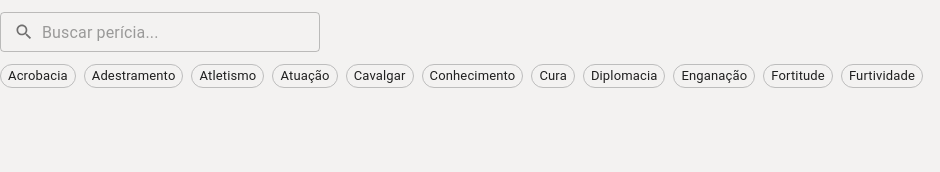
it: SkillChipSelector › filtra perícias ignorando acentos e caixa
The image size is (940, 172).
Type "atuacao" into the field with placeholder "Buscar perícia..." at [181, 32], box x1=42 y1=12 x2=320 y2=52
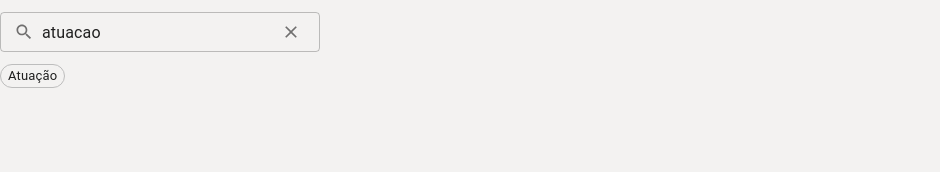
Expected: the text "Atuação" is shown, x1=8 y1=68 x2=57 y2=83
Now the button "Acrobacia" is gone
